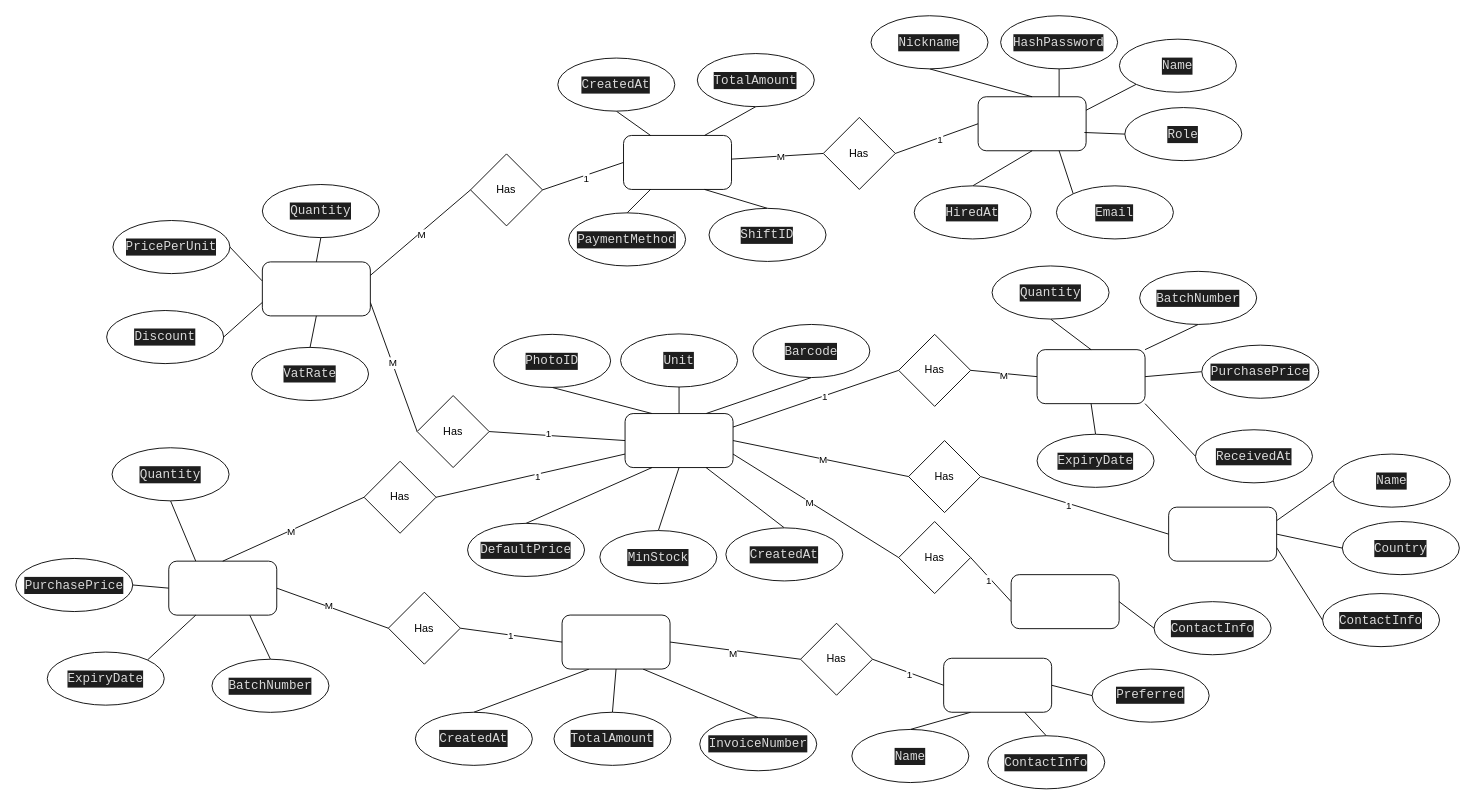
This 1475x805 diagram has some shape labels left out. The shapes that lost their labels are listed below. From the top down, each one's box as (x1, y1, x2, y2) in pixels, then its label:
(977, 96, 1086, 151): User
(623, 135, 732, 189): Order
(261, 261, 370, 316): OrderItem
(1036, 349, 1145, 404): Stock
(624, 413, 733, 468): Product
(1168, 506, 1277, 561): Manufacturer
(168, 560, 277, 615): PurchaseItem
(1010, 574, 1119, 629): Category
(561, 614, 670, 669): Purchase
(943, 657, 1052, 712): Supplier
